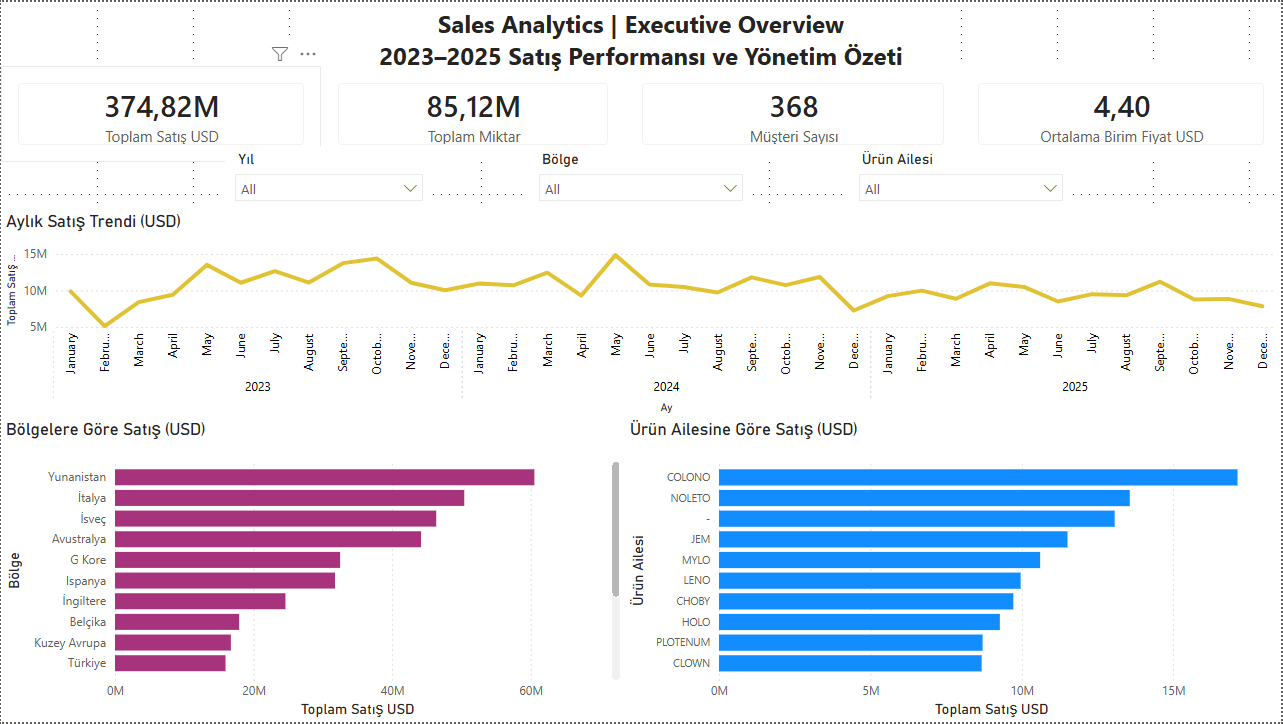

What the dashboard file says about the page in this screenshot:
{"tool":"powerbi","page":{"name":"01 - Executive Overview","canvas":[1280,720],"ordinal":0},"visuals":[{"type":"cardVisual","fields":{"Data":["FactSales.Toplam Satış USD"]},"box":[0,64,320,96],"z":0},{"type":"cardVisual","fields":{"Data":["FactSales.Toplam Miktar"]},"box":[320,64,304,96],"z":1000},{"type":"cardVisual","fields":{"Data":["FactSales.Müşteri Sayısı"]},"box":[624,64,336,96],"z":2000},{"type":"cardVisual","fields":{"Data":["FactSales.Ortalama Birim Fiyat USD"]},"box":[960,64,320,96],"z":3000},{"type":"slicer","fields":{"Values":["DimDate.Yıl"]},"box":[224,144,208,80],"z":4000},{"type":"slicer","fields":{"Values":["FactSales.Bölge"]},"box":[528,144,224,80],"z":5000},{"type":"slicer","fields":{"Values":["DimProduct.Ürün Ailesi"]},"box":[848,144,224,80],"z":6000},{"type":"lineChart","title":"Aylık Satış Trendi (USD)","fields":{"Category":["DimDate.Yıl","DimDate.Ay"],"Y":["FactSales.Toplam Satış USD"]},"box":[0,208,1280,208],"z":7000},{"type":"clusteredBarChart","title":"Bölgelere Göre Satış (USD)","fields":{"Category":["FactSales.Bölge"],"Y":["FactSales.Toplam Satış USD"]},"box":[0,416,624,304],"z":8000},{"type":"clusteredBarChart","title":"Ürün Ailesine Göre Satış (USD)","fields":{"Category":["DimProduct.Ürün Ailesi"],"Y":["FactSales.Toplam Satış USD"]},"box":[624,416,656,304],"z":9000},{"type":"textbox","box":[368,0,544,80],"z":10000}]}

Visuals, with their boxes in screenshot pixels (x1, y1, x2, y2), scaled from the page's 1280x720 canvas onto the 1283x724 screenshot:
cardVisual - FactSales.Toplam Satış USD: x1=0 y1=64 x2=321 y2=161
cardVisual - FactSales.Toplam Miktar: x1=321 y1=64 x2=625 y2=161
cardVisual - FactSales.Müşteri Sayısı: x1=625 y1=64 x2=962 y2=161
cardVisual - FactSales.Ortalama Birim Fiyat USD: x1=962 y1=64 x2=1282 y2=161
slicer - DimDate.Yıl: x1=225 y1=145 x2=433 y2=225
slicer - FactSales.Bölge: x1=529 y1=145 x2=754 y2=225
slicer - DimProduct.Ürün Ailesi: x1=850 y1=145 x2=1075 y2=225
"Aylık Satış Trendi (USD)" lineChart: x1=0 y1=209 x2=1282 y2=418
"Bölgelere Göre Satış (USD)" clusteredBarChart: x1=0 y1=418 x2=625 y2=723
"Ürün Ailesine Göre Satış (USD)" clusteredBarChart: x1=625 y1=418 x2=1282 y2=723
textbox: x1=369 y1=0 x2=914 y2=80
